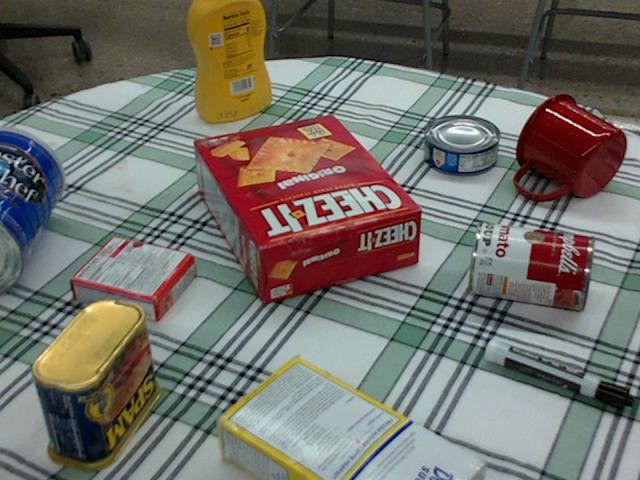cracker_box: (193, 113, 417, 301)
gelatin_box: (71, 234, 195, 321)
large_marker: (486, 338, 633, 412)
master_chef_can: (0, 126, 62, 294)
mug: (514, 93, 625, 200)
mustard_bottle: (187, 0, 270, 121)
potted_meat_can: (30, 297, 159, 468)
sugar_box: (210, 359, 483, 479)
tomato_soup_can: (467, 220, 593, 310)
tuna_fish_can: (424, 115, 500, 175)
